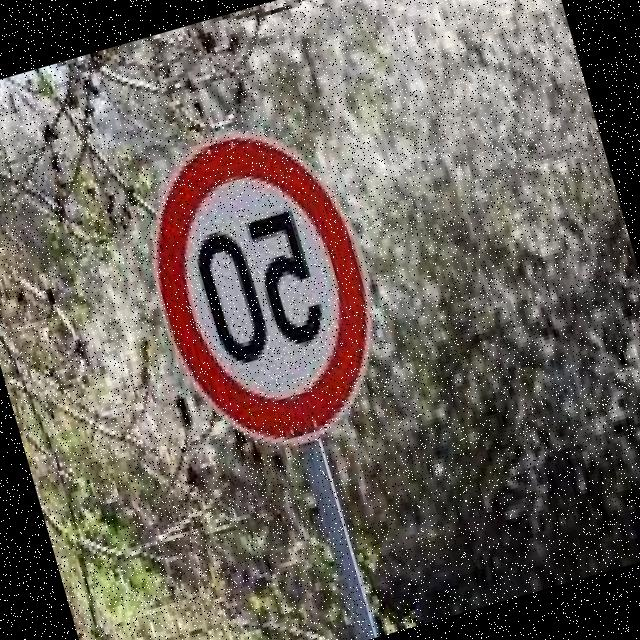speed_limit_50: (110, 94, 413, 480)
